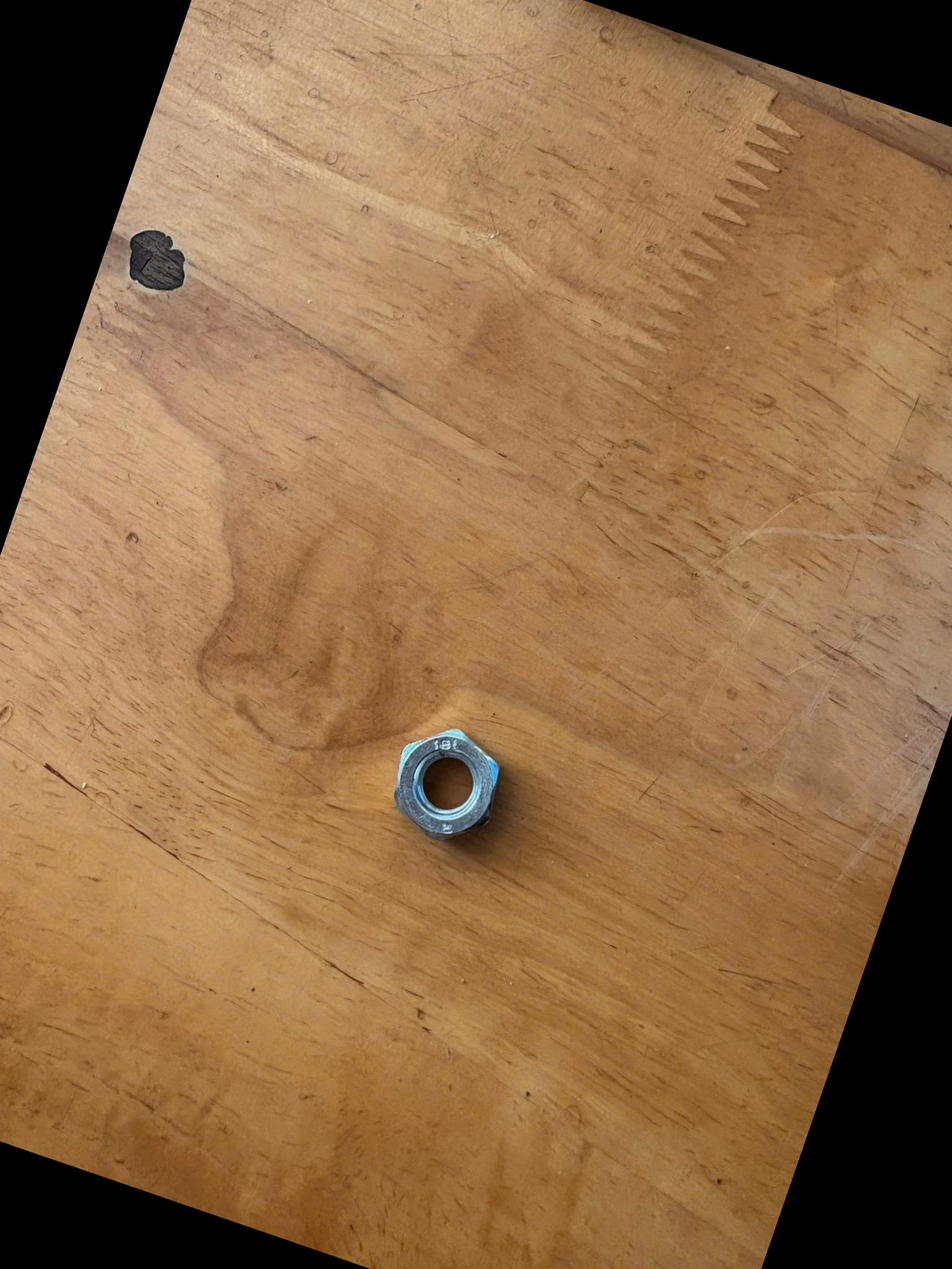nut: (350, 699, 532, 876)
